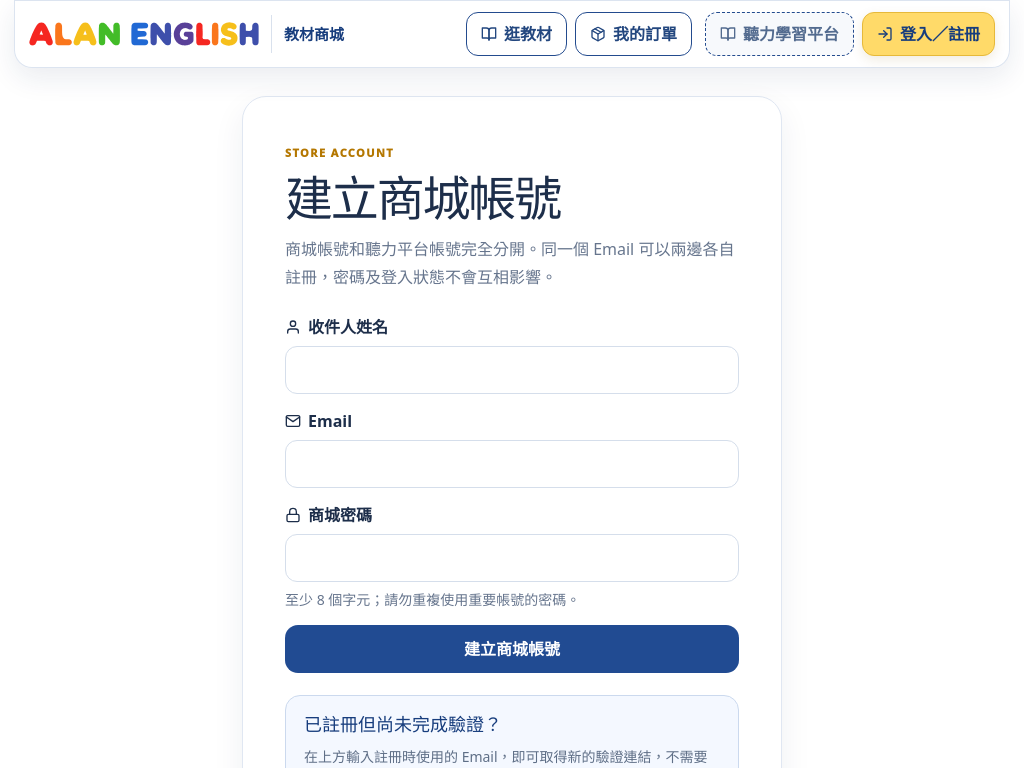
Scenario: StoreAuthPage 商城驗證信 › 註冊成功後會保留可重寄驗證信的提示
Type "王小明" into the field labelled "收件人姓名" at [512, 370], box [285, 346, 739, 394]
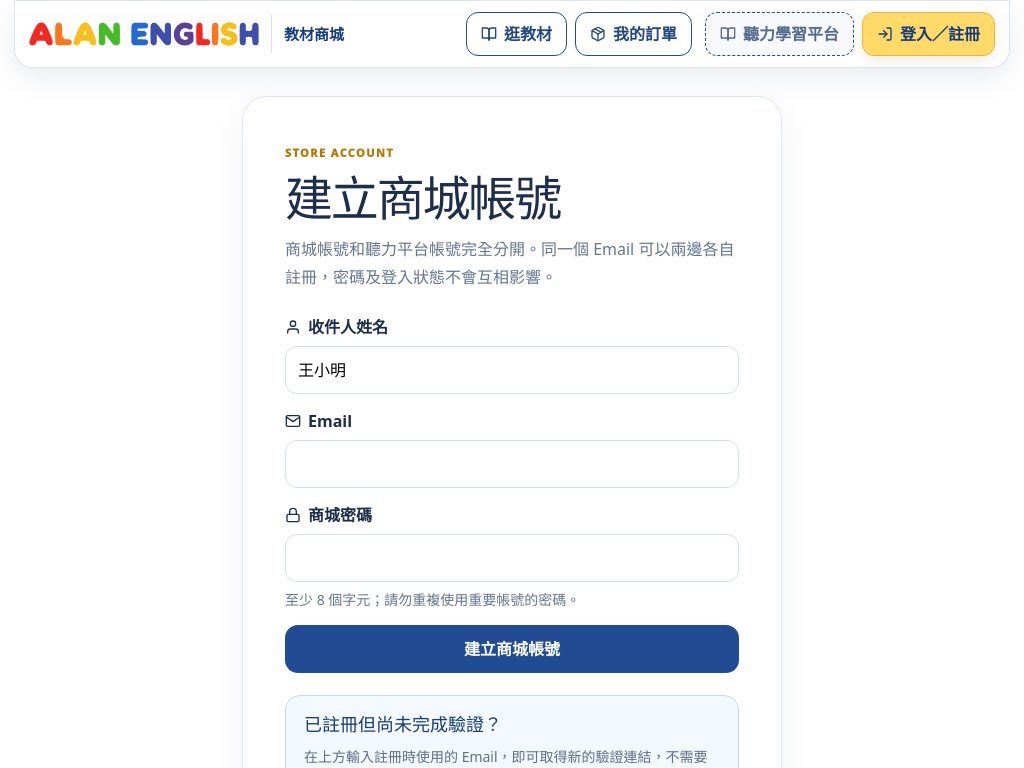
Type "buyer@example.com" into the field labelled "Email" at [512, 464], box [285, 440, 739, 488]
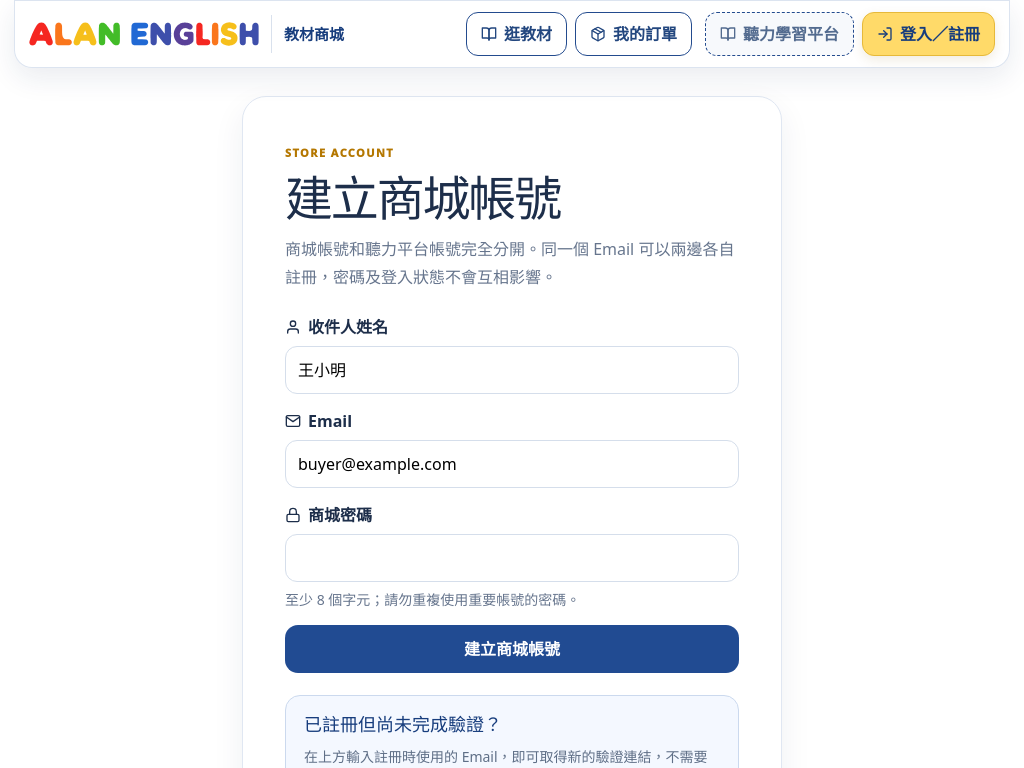
Type "password123" into the password field labelled "商城密碼 至少 8 個字元；請勿重複使用重要帳號的密碼。" at [512, 558], box [285, 534, 739, 582]
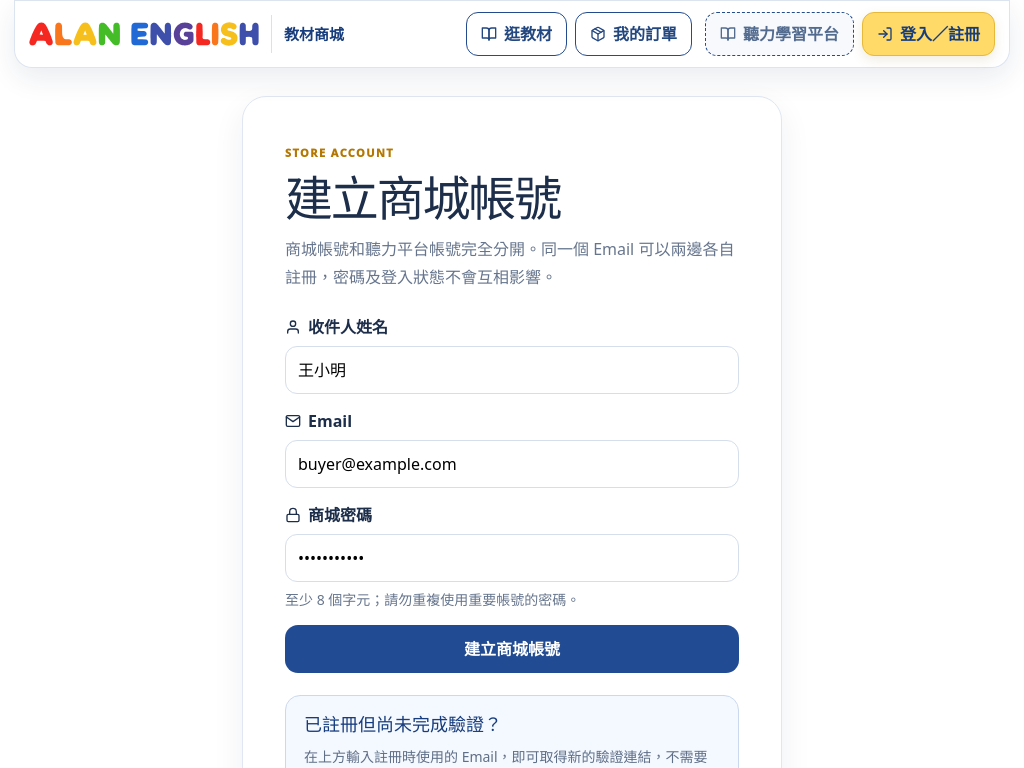
Click the button "建立商城帳號" at [512, 649], box [285, 625, 739, 673]
(page scrolled)
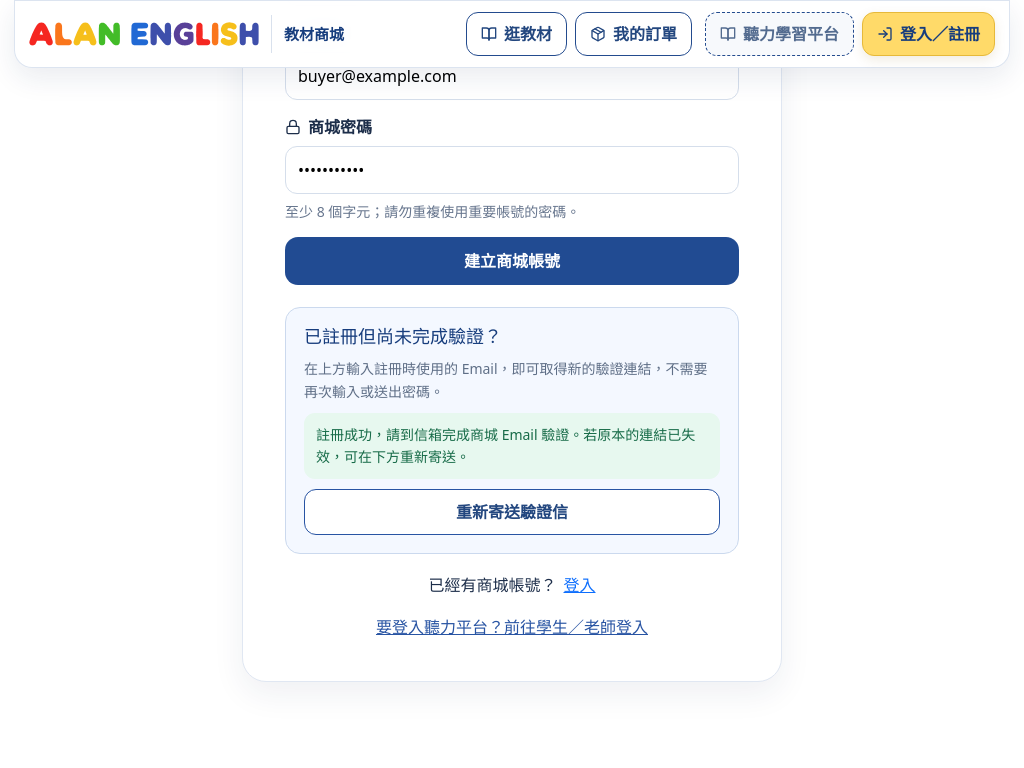
Now the button "重新寄送驗證信" is enabled, box [304, 489, 720, 535]
Now the message shows "若原本的連結已失效", box [316, 425, 695, 466]
